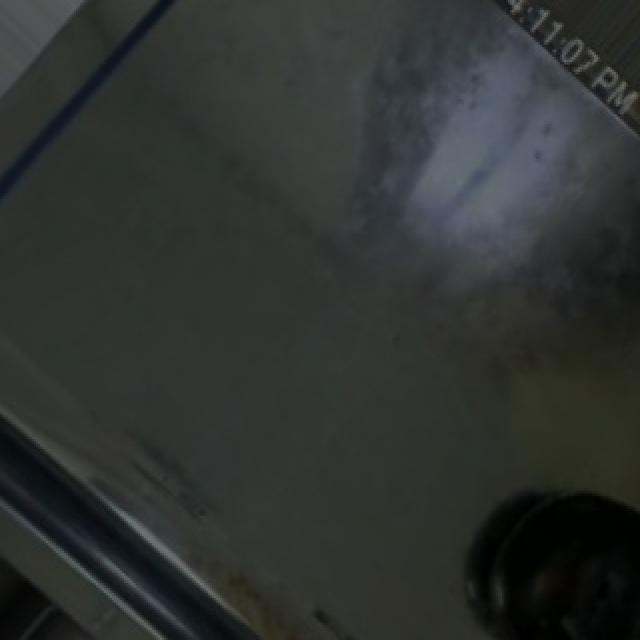Fruit: (484, 476, 640, 640)
